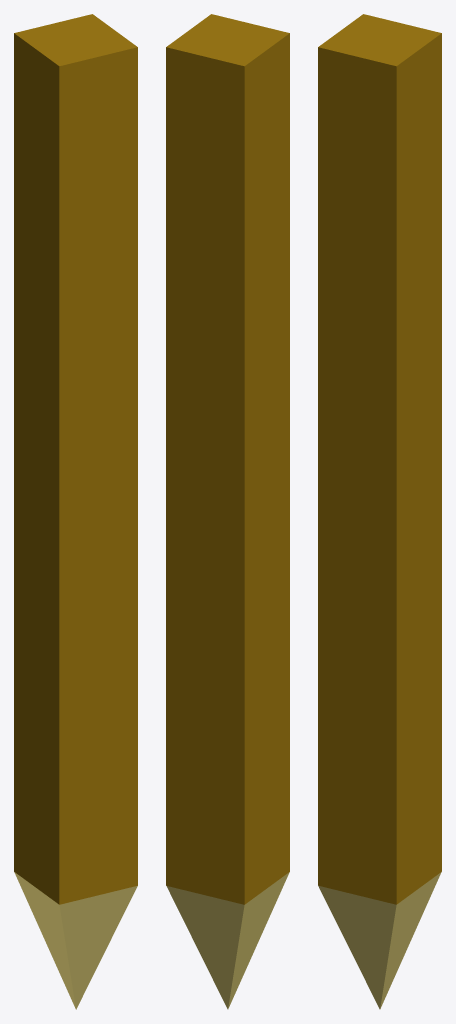
The model's file is pen.fbx.
The picture shows the model from 3 angles, left to right: view 1: azimuth 30°, elevation 25°; view 2: azimuth 150°, elevation 25°; view 3: azimuth 330°, elevation 25°; orthographic projection.
Parts seen in each view (by area): view 1: Cube, Cube.001; view 2: Cube, Cube.001; view 3: Cube, Cube.001.
Boxes of the visible parts, <box> form: Cube: <box>14,14,137,904</box>; Cube.001: <box>14,872,137,1009</box>; Cube: <box>166,14,289,904</box>; Cube.001: <box>166,872,289,1009</box>; Cube: <box>318,14,441,904</box>; Cube.001: <box>318,872,441,1009</box>.
Bounding box in the file's own units: 5.64 × 66.54 × 5.64.
